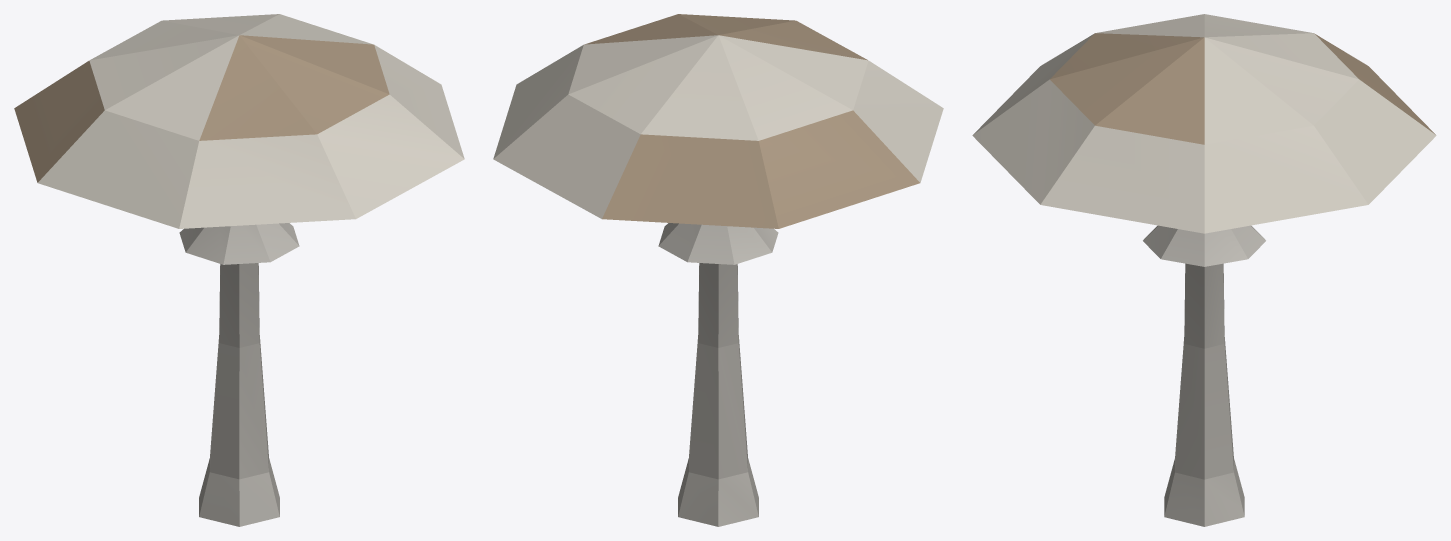
File: mushroom_parasol_low.glb
3 views of the same model, side by side, from view 1: azimuth 30°, elevation 25°; view 2: azimuth 150°, elevation 25°; view 3: azimuth 270°, elevation 25° (orthographic).
Size of the model in its own units: 0.3 by 0.335 by 0.3.
